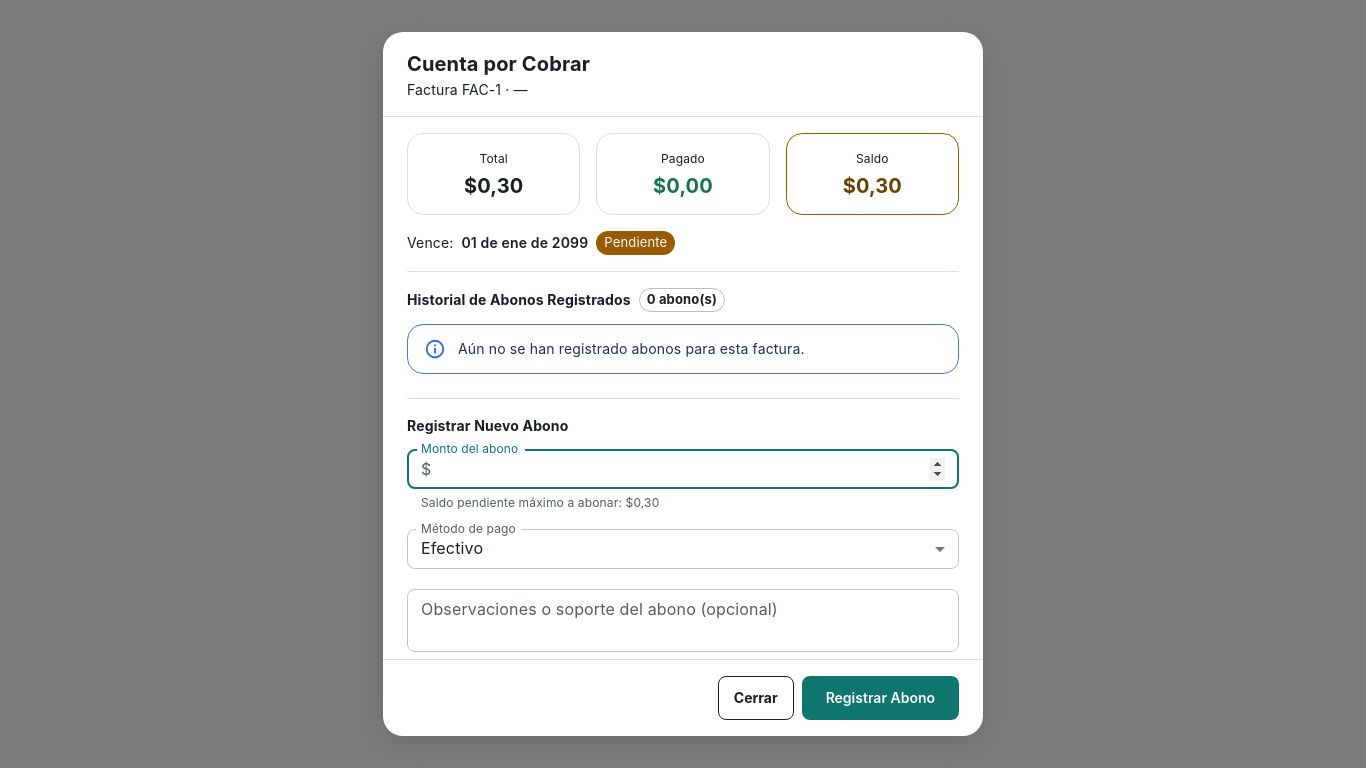
Scenario: Formulario de cartera › no envía errores ni importes superiores al saldo y enfoca el campo inválido
The width and height of the screenshot is (1366, 768).
Type "0.31" into the number field labelled "Monto del abono" at x=699, y=469, box [439,449,959,489]
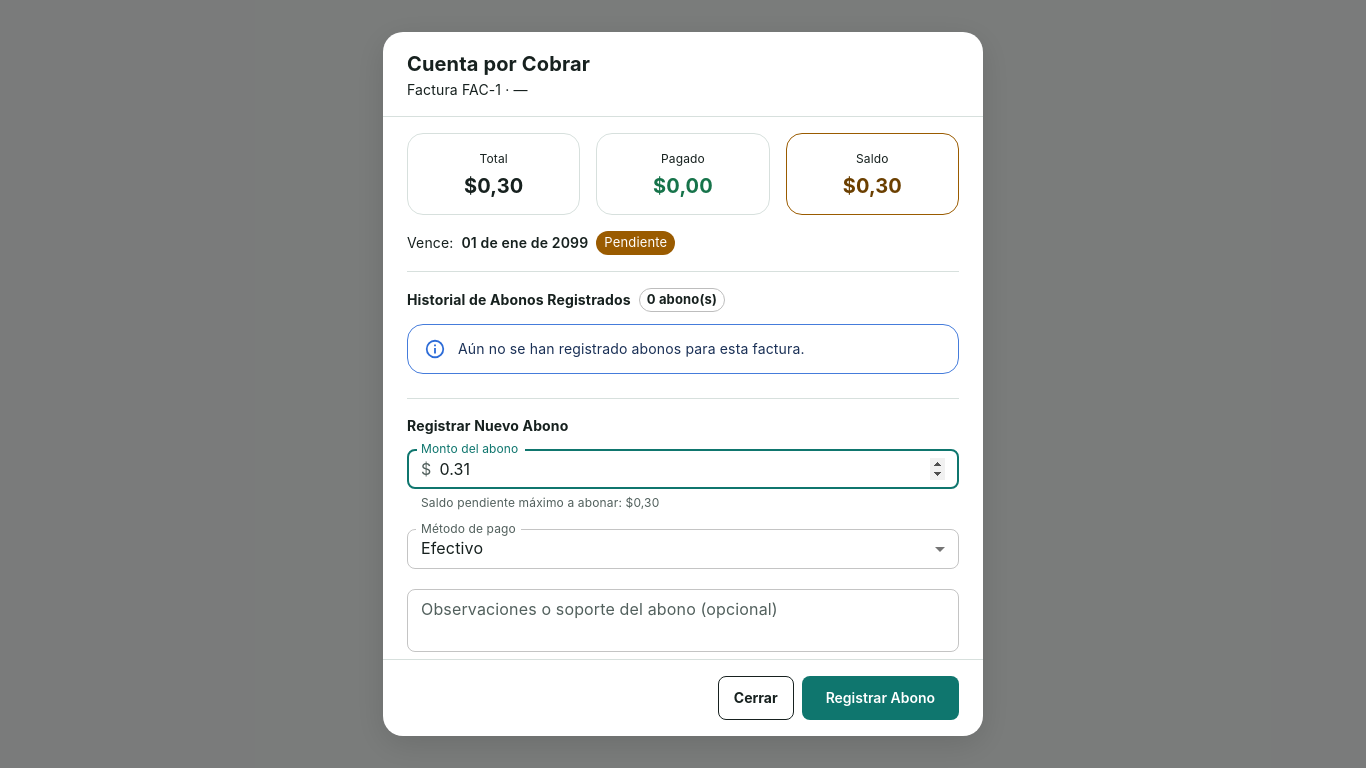
Click the button "Registrar Abono" at x=880, y=698, box [802,676,959,720]
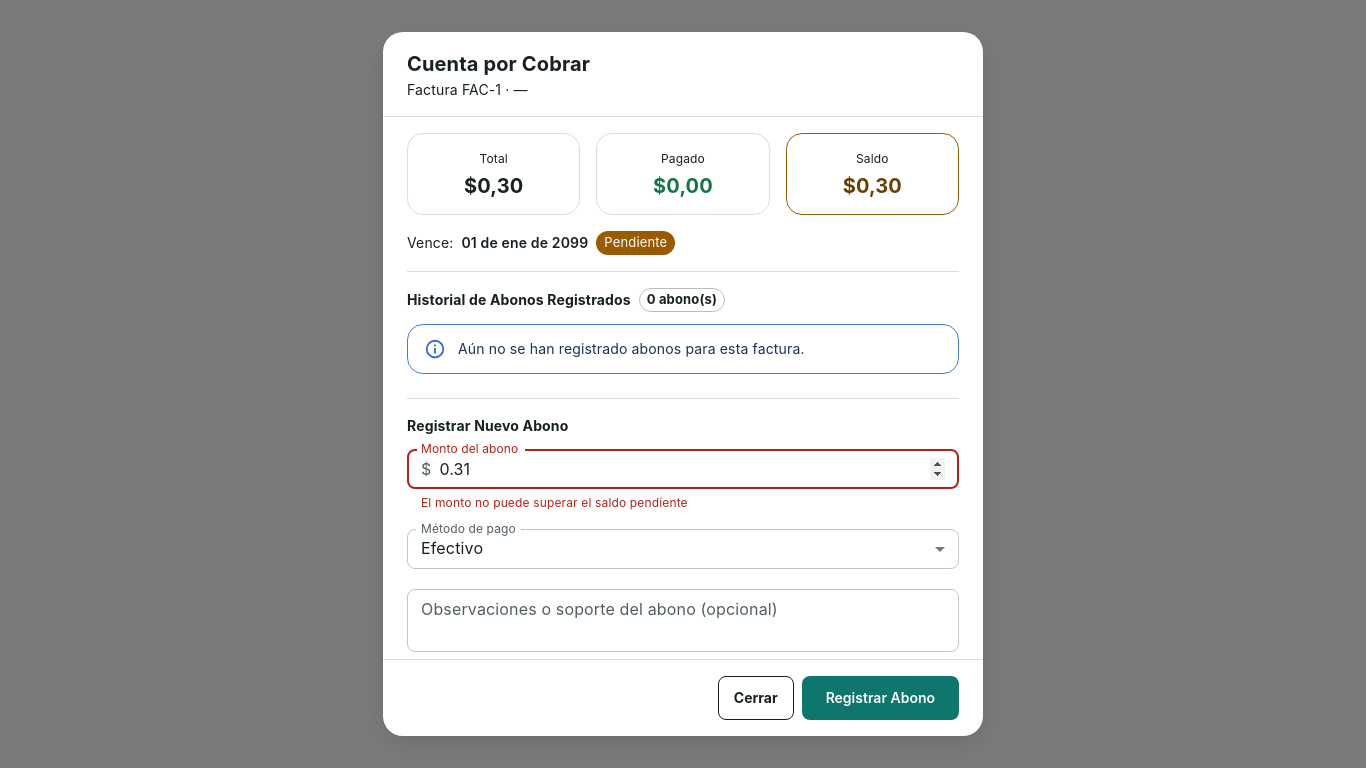
Expected: the text "El monto no puede superar el saldo pendiente" is shown, [421,495,688,510]
Replace the text in the number field labelled "Monto del abono" with "0.001" at x=699, y=469, box [439,449,959,489]
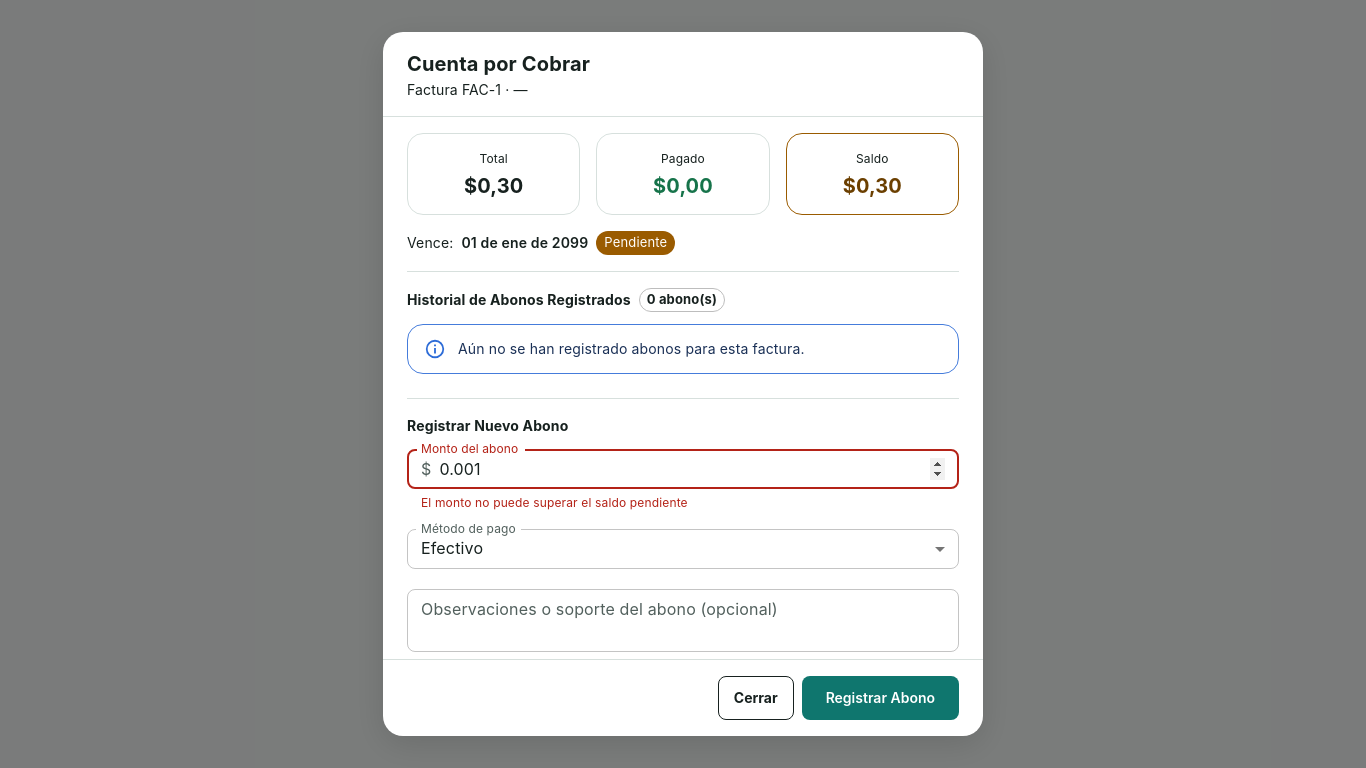
Click the button "Registrar Abono" at x=880, y=698, box [802,676,959,720]
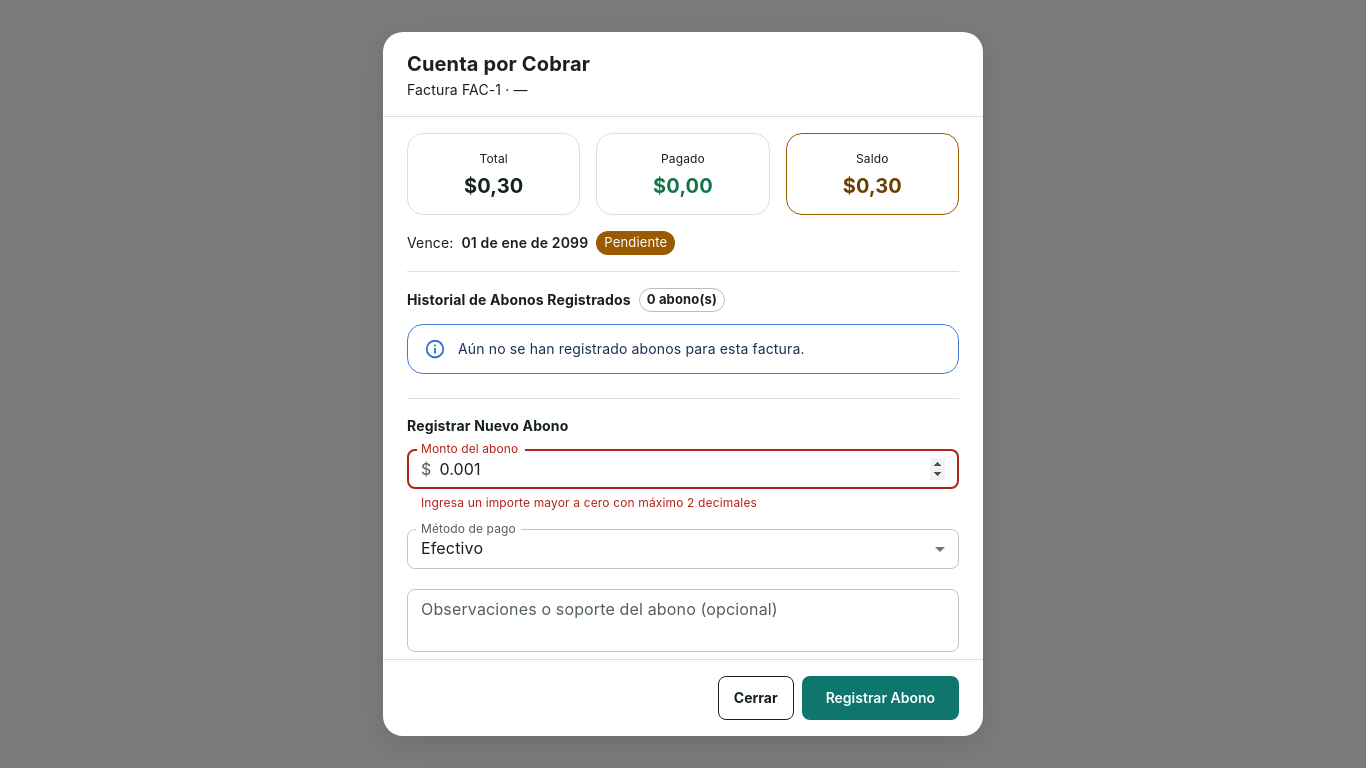
Expected: the text "Ingresa un importe mayor a cero con máximo 2 decimales" is shown, [421,495,757,510]
